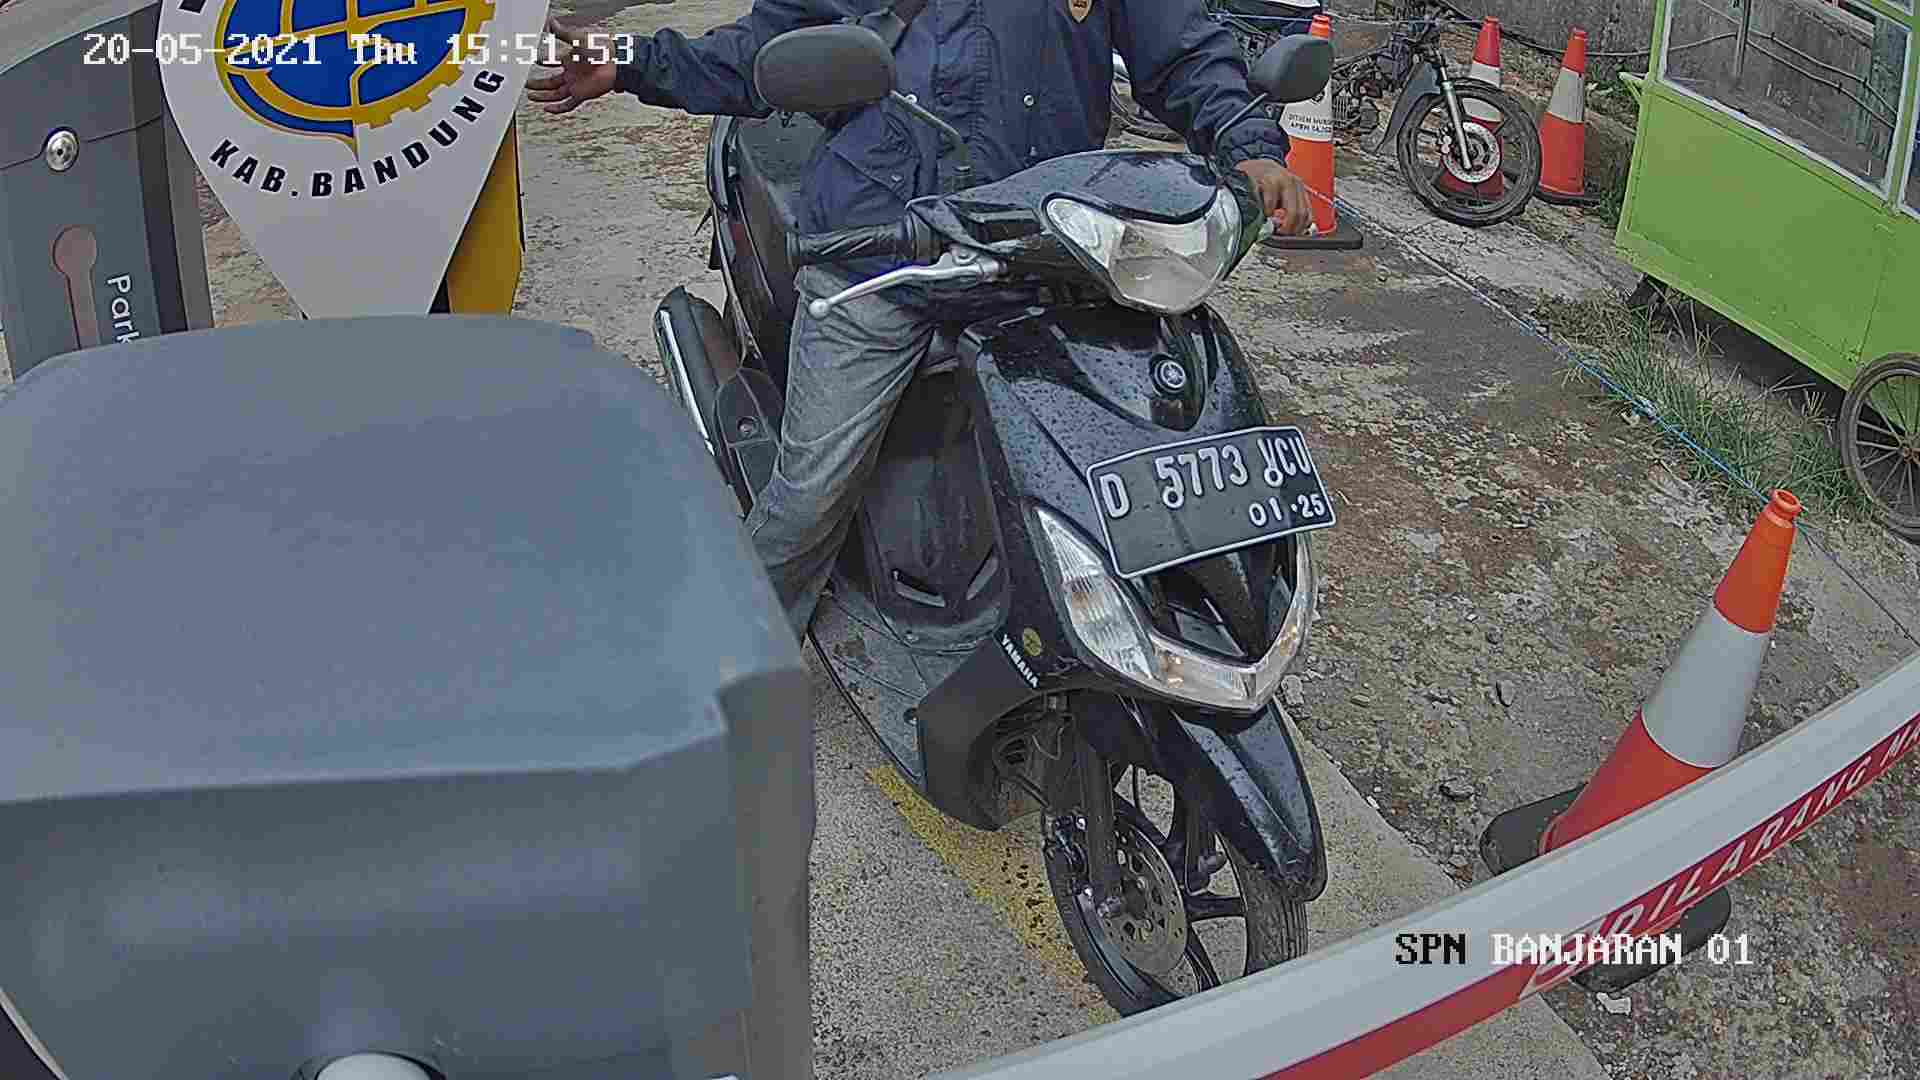motor: (673, 107, 1362, 1011)
